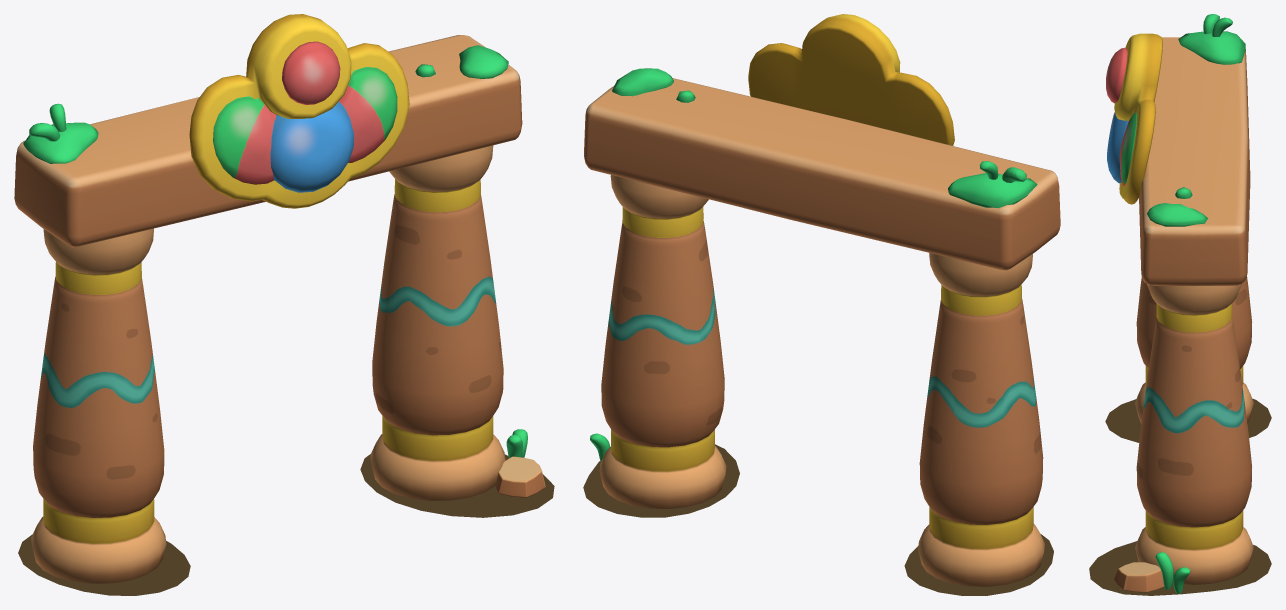
File: Gate.fbx
3 renders of one model, left to right at view 1: azimuth 30°, elevation 25°; view 2: azimuth 150°, elevation 25°; view 3: azimuth 270°, elevation 25°, orthographic. The views are drawn at different scales.
Visible parts, largest first — view 1: Gate_top, Gate_pillar, Gate_jewry, Gate_shadow; view 2: Gate_top, Gate_pillar, Gate_jewry, Gate_shadow; view 3: Gate_top, Gate_pillar, Gate_jewry, Gate_shadow.
Boxes of the visible parts, x1,y1,x2,y2 form: Gate_top: [31, 145, 545, 583]; Gate_pillar: [14, 35, 522, 247]; Gate_jewry: [189, 14, 409, 208]; Gate_shadow: [18, 454, 554, 595]; Gate_top: [590, 175, 1044, 586]; Gate_pillar: [584, 68, 1060, 270]; Gate_jewry: [748, 14, 954, 145]; Gate_shadow: [583, 444, 1053, 595]; Gate_top: [1114, 277, 1253, 593]; Gate_pillar: [1139, 14, 1250, 285]; Gate_jewry: [1106, 33, 1162, 204]; Gate_shadow: [1089, 398, 1271, 595].
Size of the model in its own units: 433 by 442 by 162.
